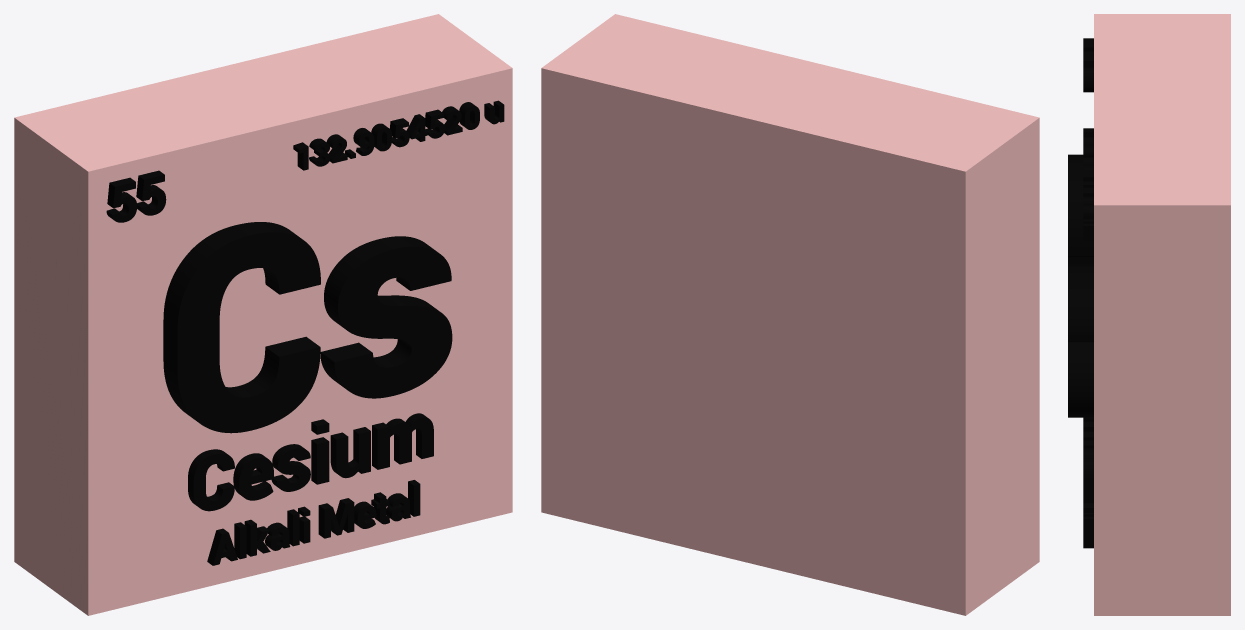
3 views of the same model, side by side, from view 1: azimuth 30°, elevation 25°; view 2: azimuth 150°, elevation 25°; view 3: azimuth 270°, elevation 25° (orthographic). The views are drawn at different scales.
Parts seen in each view (by area): view 1: Cube, Text, Text.001, Text.002, Text.004, Text.003; view 2: Cube; view 3: Cube, Text, Text.004, Text.001, Text.003, Text.002.
Part boxes in pixels (left/top/right/bottom): Cube: left=14, top=14, right=512, bottom=615; Text: left=163, top=222, right=452, bottom=433; Text.001: left=188, top=413, right=433, bottom=511; Text.002: left=207, top=480, right=420, bottom=565; Text.004: left=293, top=100, right=504, bottom=170; Text.003: left=106, top=170, right=166, bottom=222; Cube: left=541, top=14, right=1039, bottom=615; Cube: left=1094, top=14, right=1230, bottom=615; Text: left=1068, top=154, right=1093, bottom=417; Text.004: left=1083, top=128, right=1093, bottom=241; Text.001: left=1083, top=417, right=1093, bottom=502; Text.003: left=1083, top=38, right=1093, bottom=92; Text.002: left=1083, top=503, right=1093, bottom=548.
Size of the model in its own units: 178 by 178 by 63.95.
